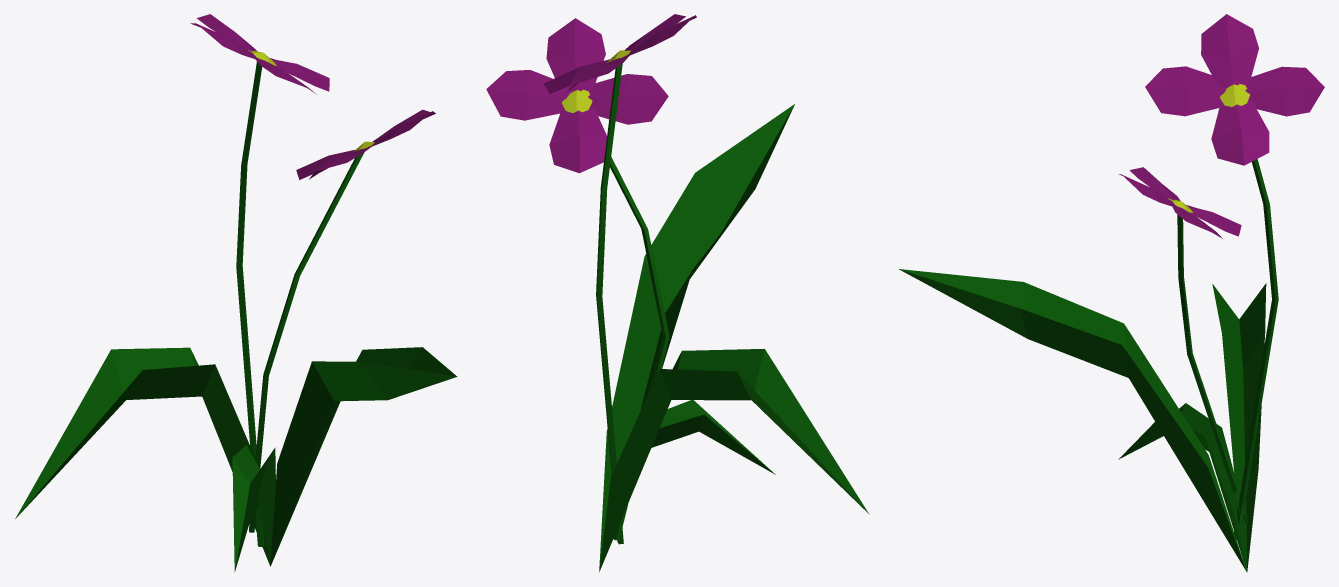
Rendered from flower3.obj.
3 views of the same model, side by side, from view 1: azimuth 30°, elevation 25°; view 2: azimuth 150°, elevation 25°; view 3: azimuth 270°, elevation 25° (orthographic). The views are drawn at different scales.
Parts seen in each view (by area): view 1: polySurface53; view 2: polySurface53; view 3: polySurface53.
Part boxes in pixels (x1,y1,x2,y2): polySurface53: (15,14,457,572); polySurface53: (486,14,869,572); polySurface53: (899,14,1324,572).
Bounding box in the file's own units: 1.32 × 1.82 × 1.35.
